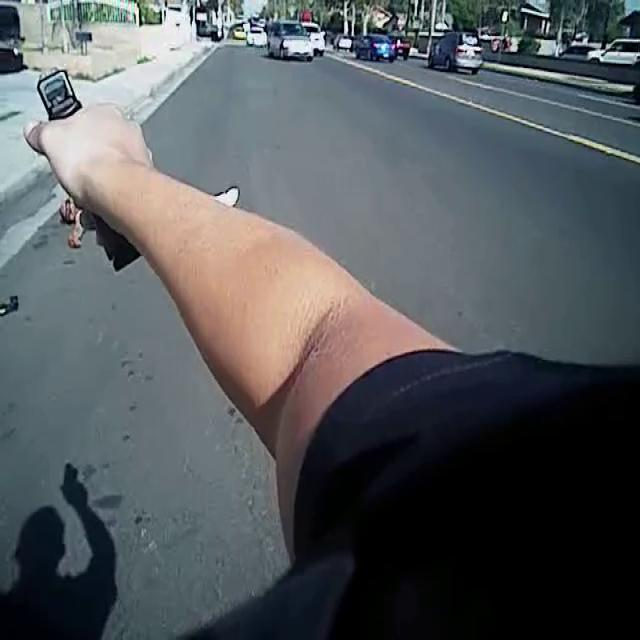gun: (22, 48, 174, 292)
